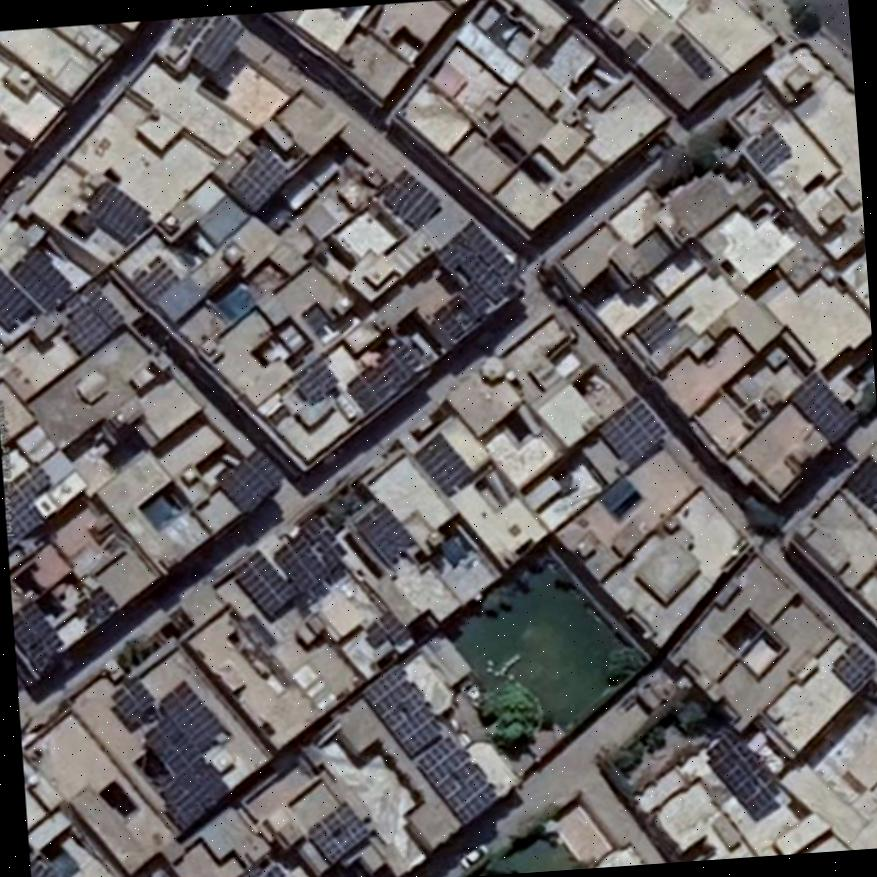Solarpanel: (360, 665, 498, 824), (119, 680, 259, 829), (434, 219, 517, 313), (702, 732, 780, 819), (274, 513, 345, 595), (344, 339, 423, 410), (5, 460, 64, 548), (53, 282, 123, 353), (598, 394, 668, 464), (789, 373, 855, 442), (228, 548, 292, 615), (218, 447, 282, 512), (85, 178, 148, 241), (8, 245, 68, 310), (305, 803, 370, 862), (228, 146, 286, 211), (13, 600, 66, 668), (380, 168, 440, 228), (413, 432, 471, 490), (356, 502, 412, 558), (745, 124, 792, 174), (109, 673, 155, 724), (632, 301, 677, 351), (829, 642, 875, 687), (433, 293, 478, 339), (364, 609, 410, 654), (669, 33, 712, 80), (843, 450, 877, 509), (75, 586, 117, 630), (0, 268, 29, 329), (299, 359, 338, 403), (28, 837, 60, 877), (241, 852, 287, 877)
